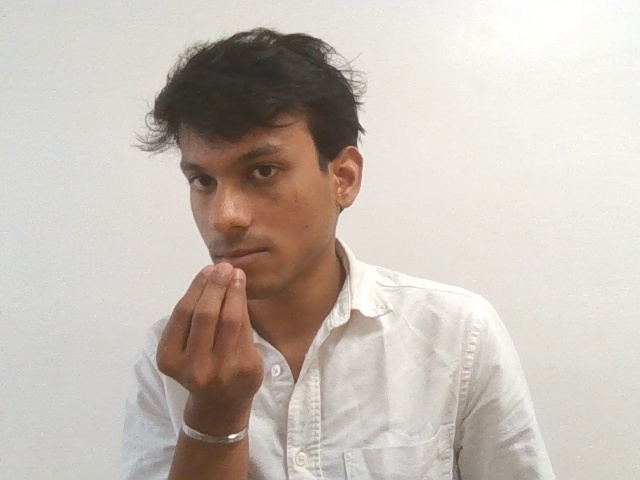Eat: (160, 256, 278, 420)
